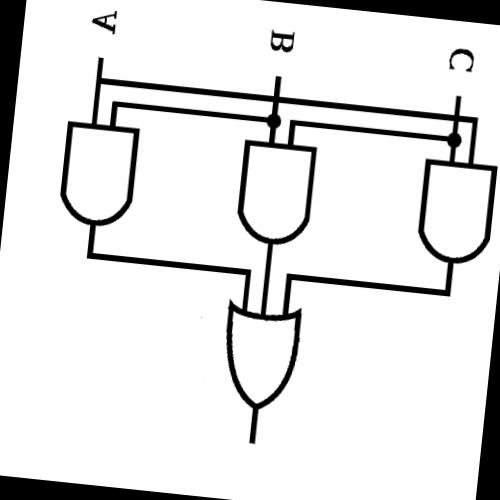and: (41, 105, 153, 247), (221, 125, 326, 265), (400, 147, 500, 282)
or: (201, 286, 317, 428)
